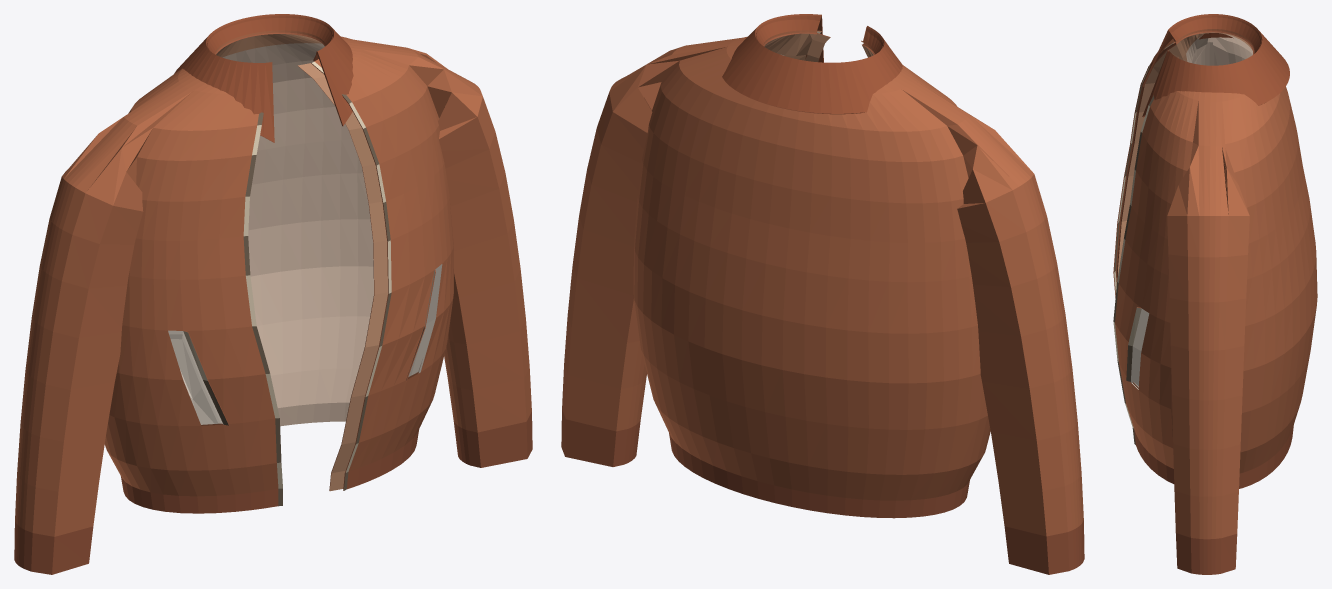
The picture shows the model from 3 angles, left to right: view 1: azimuth 30°, elevation 25°; view 2: azimuth 150°, elevation 25°; view 3: azimuth 270°, elevation 25°; orthographic projection. The views are drawn at different scales.
Parts seen in each view (by area): view 1: shell_with_outer_bags, full_lining_and_facings, pointed_collar, left_guard_G_L, separate_zip_R, separate_zip_L; view 2: shell_with_outer_bags, pointed_collar, full_lining_and_facings; view 3: shell_with_outer_bags, pointed_collar, full_lining_and_facings, separate_zip_L, separate_zip_R, outer_mouth_L_tape.
Part boxes in pixels (bbox=[...]): shell_with_outer_bags: bbox=[14, 30, 532, 574]; full_lining_and_facings: bbox=[215, 32, 373, 426]; pointed_collar: bbox=[174, 14, 353, 142]; left_guard_G_L: bbox=[297, 63, 387, 491]; separate_zip_R: bbox=[243, 112, 282, 506]; separate_zip_L: bbox=[311, 61, 391, 490]; shell_with_outer_bags: bbox=[561, 30, 1084, 574]; pointed_collar: bbox=[722, 14, 902, 114]; full_lining_and_facings: bbox=[763, 32, 875, 60]; shell_with_outer_bags: bbox=[1115, 29, 1317, 574]; pointed_collar: bbox=[1142, 14, 1289, 117]; full_lining_and_facings: bbox=[1117, 31, 1254, 277]; separate_zip_L: bbox=[1113, 95, 1154, 444]; separate_zip_R: bbox=[1113, 42, 1174, 298]; outer_mouth_L_tape: bbox=[1126, 307, 1141, 381].
Bounding box in the file's own units: 87.18 × 76.52 × 33.28.
